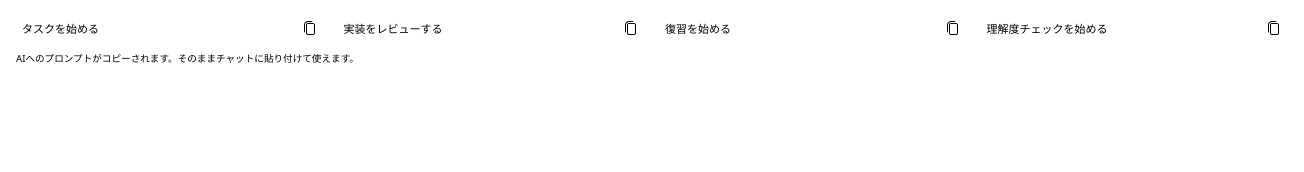
Actions › shows check icon after click
Click the button "タスクを始める": x=60, y=28 [12, 12, 328, 44]
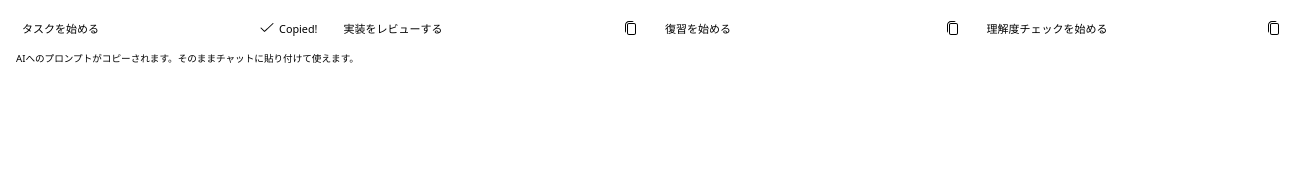
Result: the text "Copied!" is shown at [279, 20, 318, 36]
